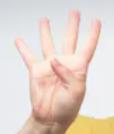right: (12, 11, 103, 119)
